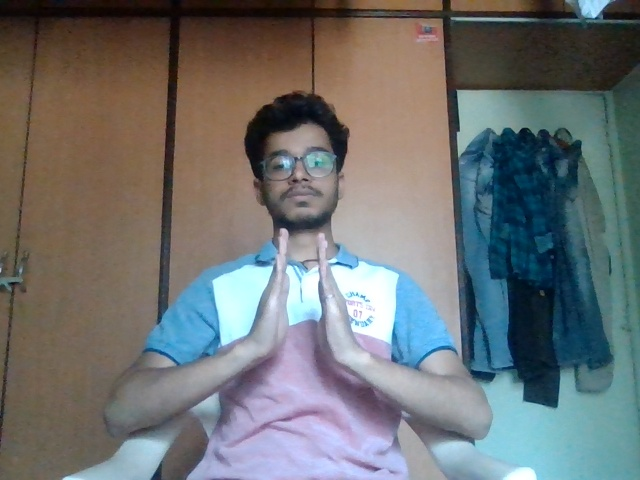morning: (240, 220, 379, 383)
